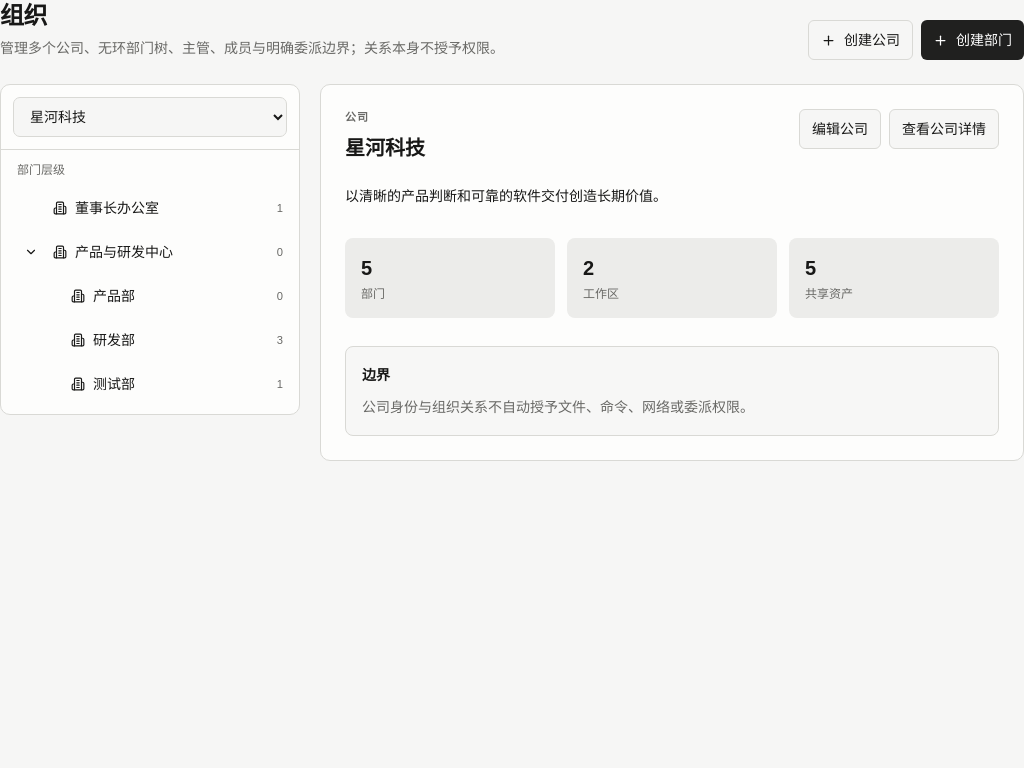
it: 组织页 › 公司编辑只允许从同公司 Agent 选择董事长助理
Click the button "编辑公司" at (840, 129), box [799,109,881,149]
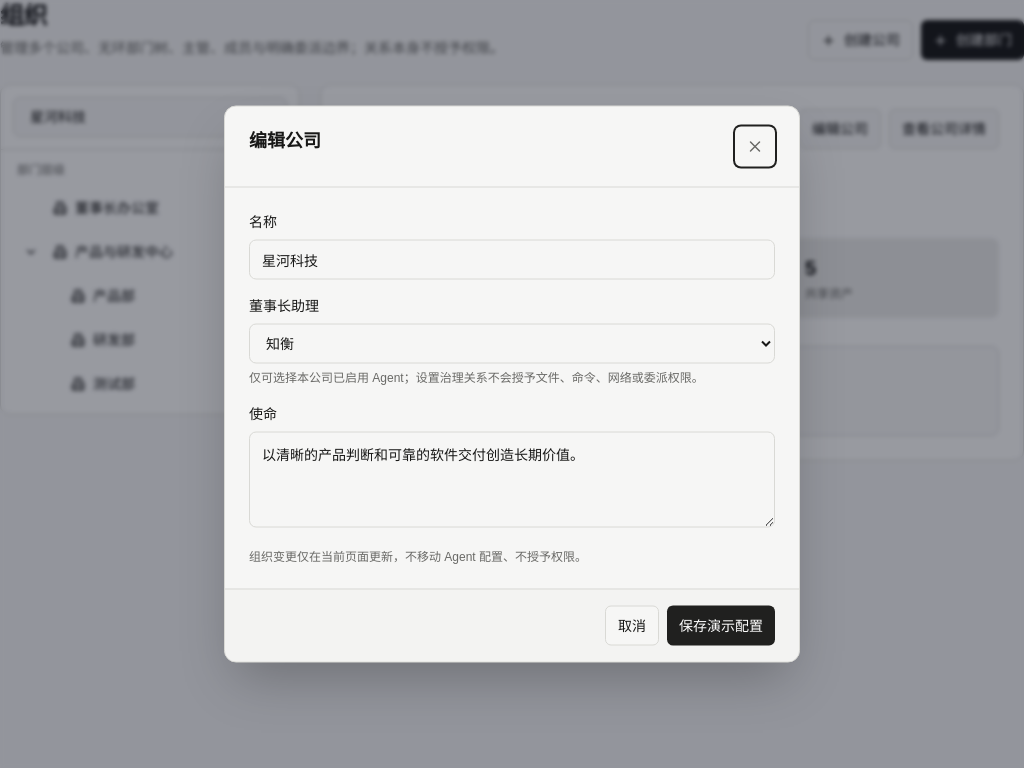
Check: the text "仅可选择本公司已启用 Agent；设置治理关系不会授予文件、命令、网络或委派权限。" is shown, box [249,368,775,388]
